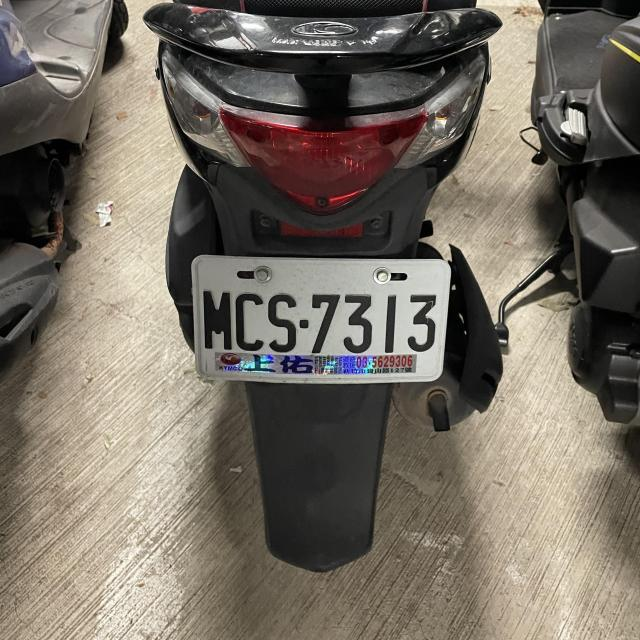W: (188, 253, 448, 388)
